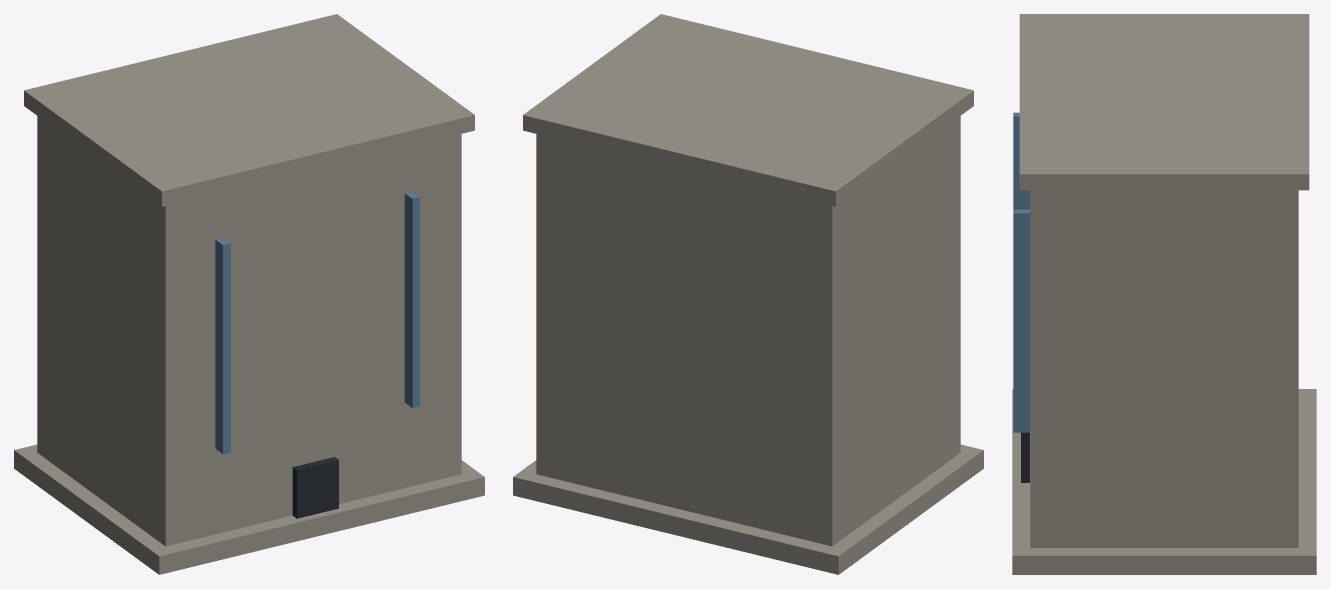
Rendered from bld_residential_a07_lod1.glb.
3 renders of one model, left to right at view 1: azimuth 30°, elevation 25°; view 2: azimuth 150°, elevation 25°; view 3: azimuth 270°, elevation 25°, orthographic. The views are drawn at different scales.
Visible parts, largest first — view 1: body; view 2: body; view 3: body.
Boxes of the visible parts, x1=… form: body: x1=14, y1=14, x2=484, y2=574; body: x1=513, y1=14, x2=983, y2=574; body: x1=1012, y1=14, x2=1316, y2=574.
Bounding box in the file's own units: 6.6 × 7.35 × 5.1.
